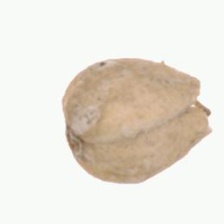L1: (187, 76, 211, 134), (60, 115, 83, 160)
L2: (61, 57, 211, 183)
